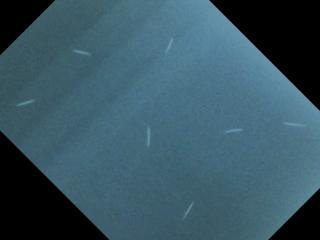scratch: (9, 89, 43, 110), (59, 46, 94, 66), (158, 31, 181, 60), (178, 196, 197, 226), (279, 116, 309, 134), (142, 121, 161, 149), (218, 123, 246, 138)
